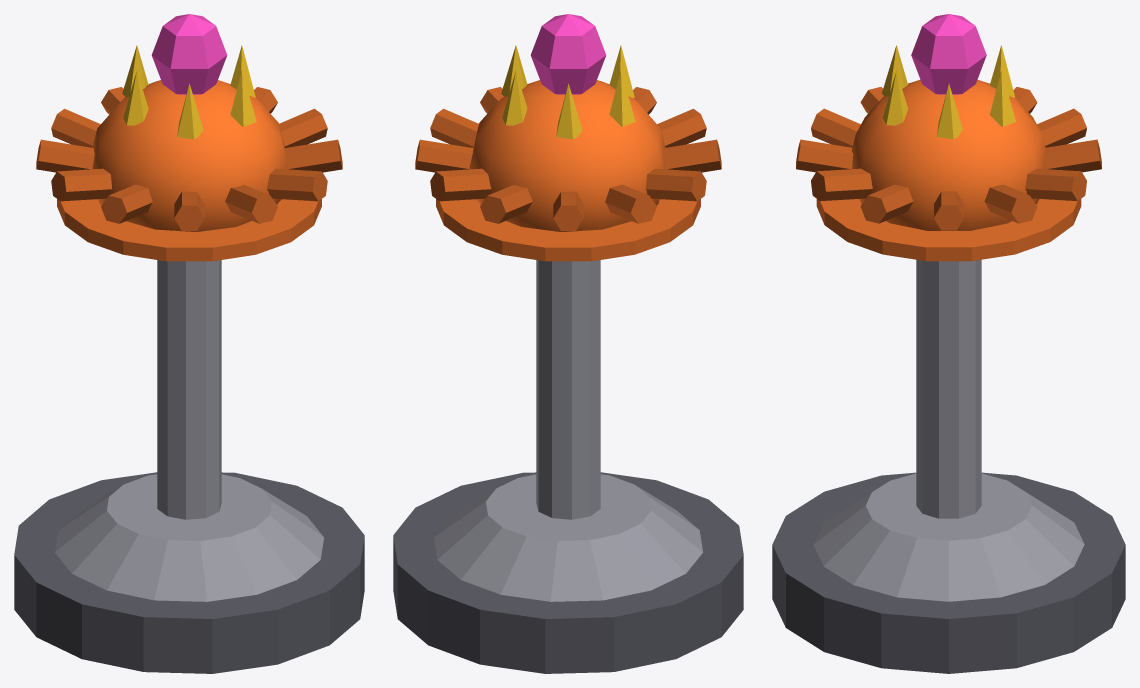
The model's file is Sprinkler_SuperSprinkler.fbx.
3 renders of one model, left to right at view 1: azimuth 30°, elevation 25°; view 2: azimuth 150°, elevation 25°; view 3: azimuth 270°, elevation 25°, orthographic.
Visible parts, largest first — view 1: Base_SuperSprinkler, Cabeca_SuperSprinkler, Cano_SuperSprinkler; view 2: Base_SuperSprinkler, Cabeca_SuperSprinkler, Cano_SuperSprinkler; view 3: Base_SuperSprinkler, Cabeca_SuperSprinkler, Cano_SuperSprinkler.
Boxes of the visible parts, bbox=[...] form: Base_SuperSprinkler: bbox=[14, 472, 364, 673]; Cabeca_SuperSprinkler: bbox=[36, 14, 342, 261]; Cano_SuperSprinkler: bbox=[157, 260, 221, 519]; Base_SuperSprinkler: bbox=[393, 472, 743, 673]; Cabeca_SuperSprinkler: bbox=[415, 14, 721, 261]; Cano_SuperSprinkler: bbox=[536, 260, 600, 519]; Base_SuperSprinkler: bbox=[772, 472, 1125, 673]; Cabeca_SuperSprinkler: bbox=[796, 14, 1101, 261]; Cano_SuperSprinkler: bbox=[916, 259, 981, 518].
Bounding box in the file's own units: 1.4 × 2.56 × 1.4.
Materials: 1 (1 with a texture image).
